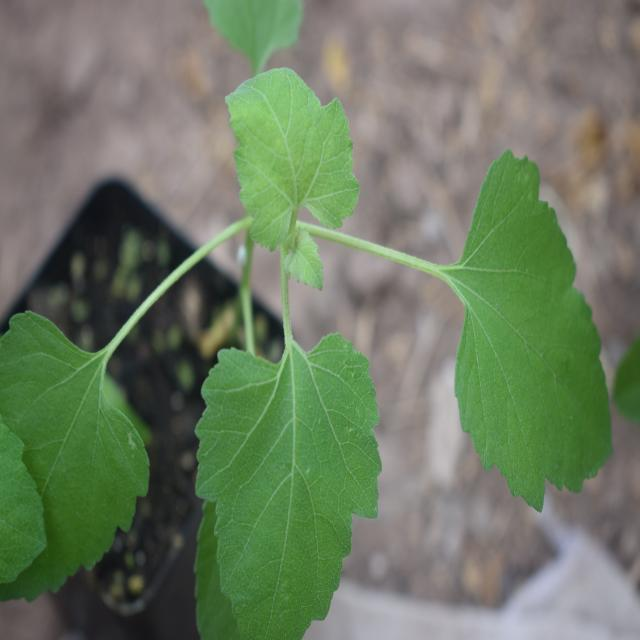cocklebur: (18, 76, 605, 608)
